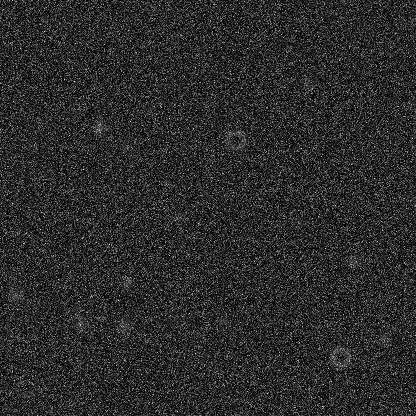Ring: (223, 128, 247, 152), (328, 345, 352, 369), (13, 375, 37, 399)
Spot: (252, 352, 268, 368), (207, 362, 223, 378), (116, 139, 132, 155), (299, 75, 315, 91), (65, 100, 81, 116), (7, 286, 23, 302), (115, 317, 131, 333), (214, 313, 230, 329), (118, 275, 134, 291), (290, 216, 306, 232), (71, 316, 87, 332), (167, 210, 183, 226), (345, 252, 361, 268), (376, 330, 392, 346), (90, 119, 106, 135)
